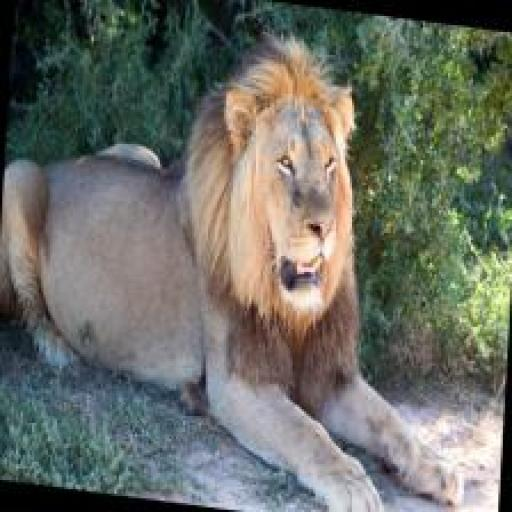lion: (0, 0, 488, 511)
